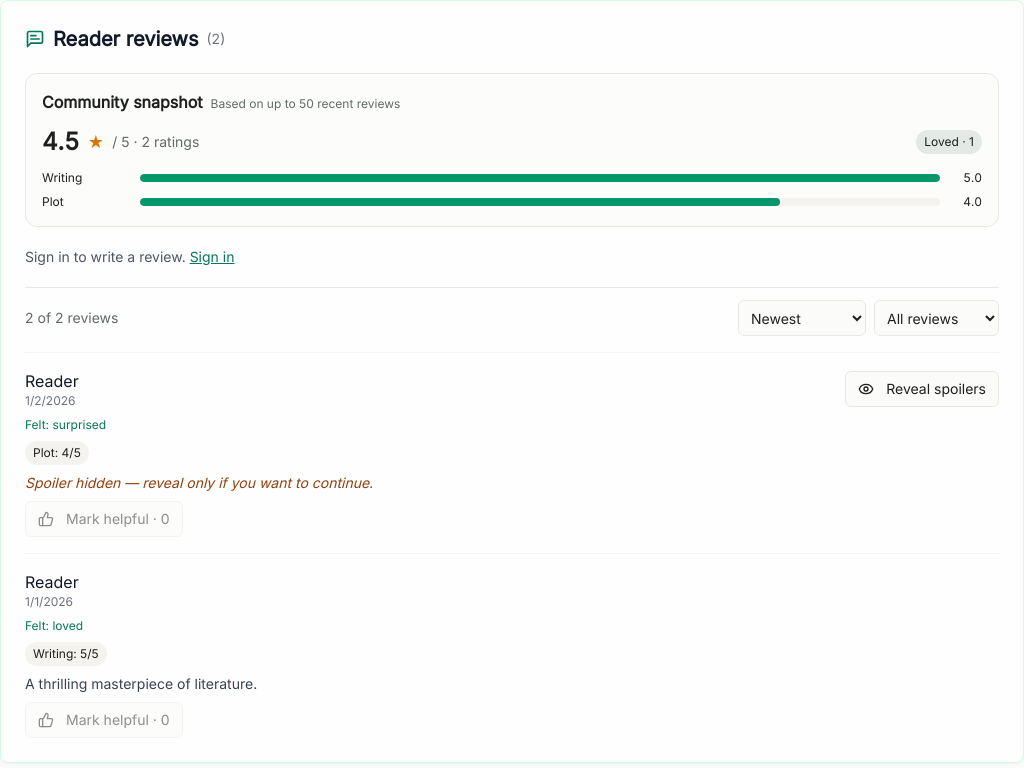
Test: BookReviews › renders reviews analytics, review cards, and spoiler masking
Check: the heading "Reader reviews" is shown, box [53,25,198,53]
Check: the heading "Community snapshot" is shown, box [42,90,203,114]
Click the button "Reveal spoilers": click(922, 389) [845,371,999,407]
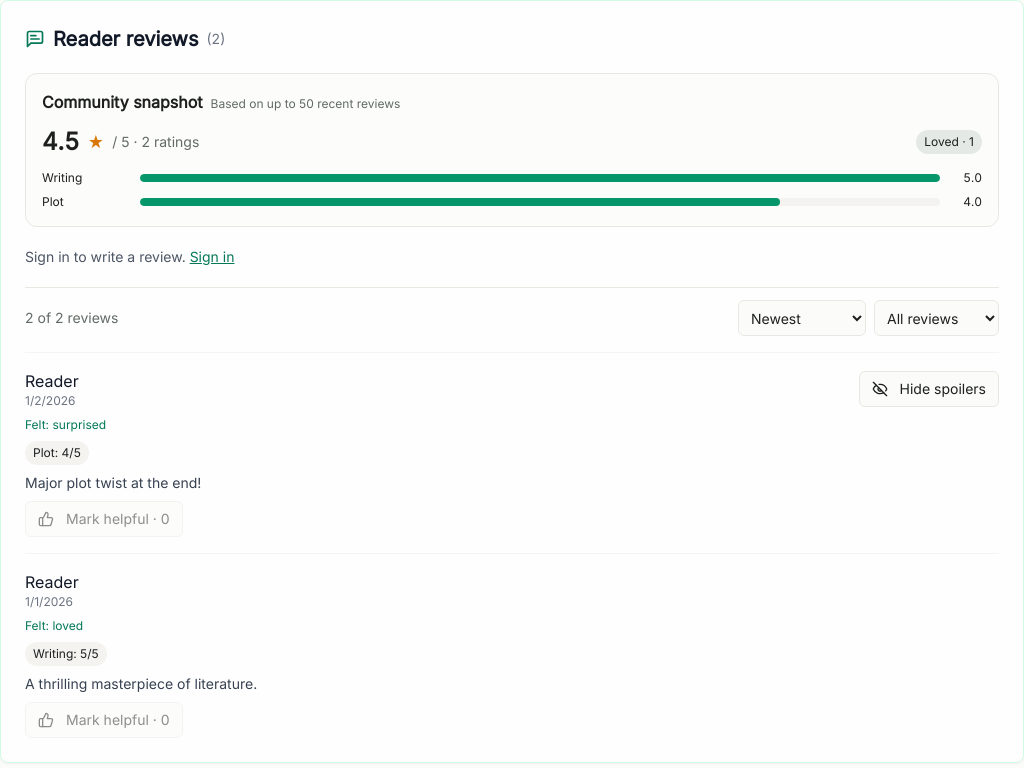
Check: the text "Major plot twist at the end!" is shown, box [25,474,201,491]
